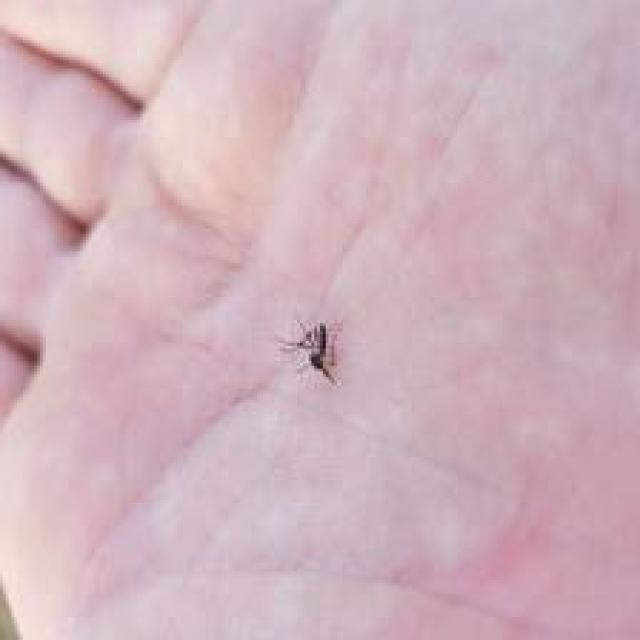Aedes albopictus: (278, 317, 342, 386)
